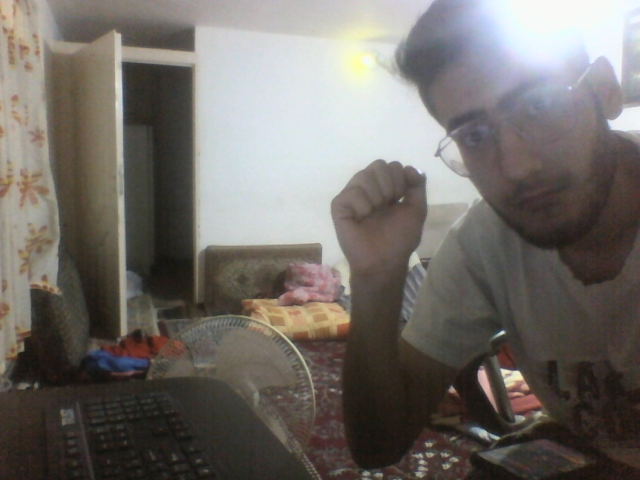attack: (328, 156, 428, 267)
